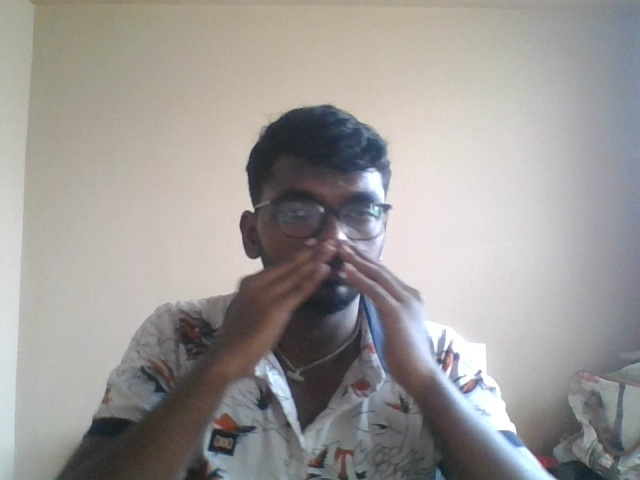Thank you: (236, 231, 455, 413)
